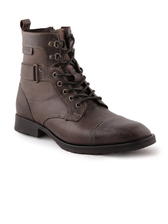shoes: (11, 17, 158, 153)
